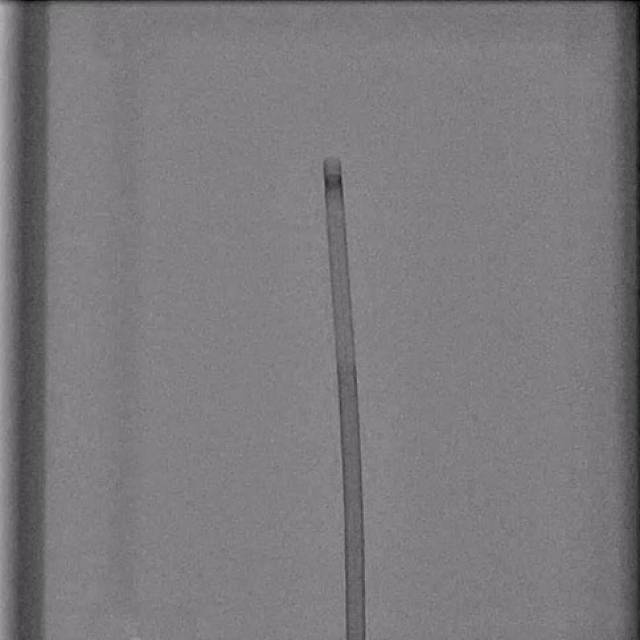bend: (335, 343, 355, 365)
entry: (347, 634, 365, 640)
marker: (324, 173, 343, 191)
tip: (323, 157, 342, 166)
